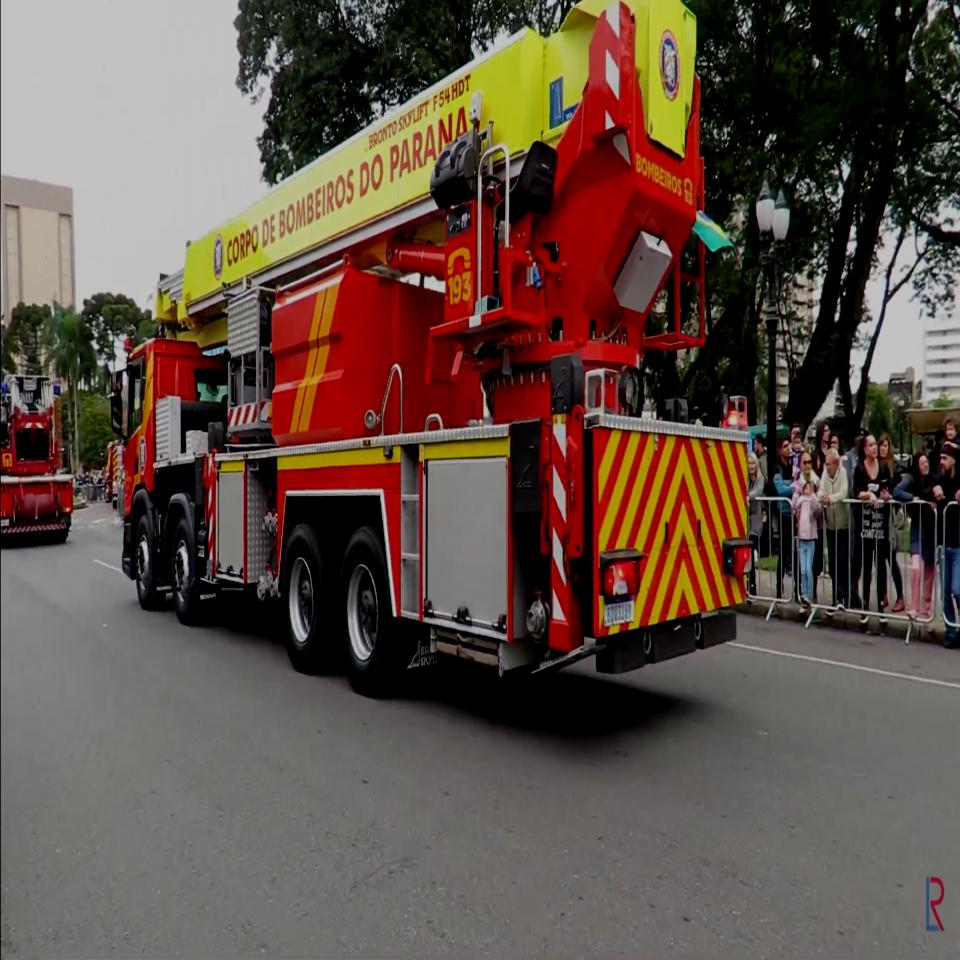bombeiro: (106, 0, 756, 699)
